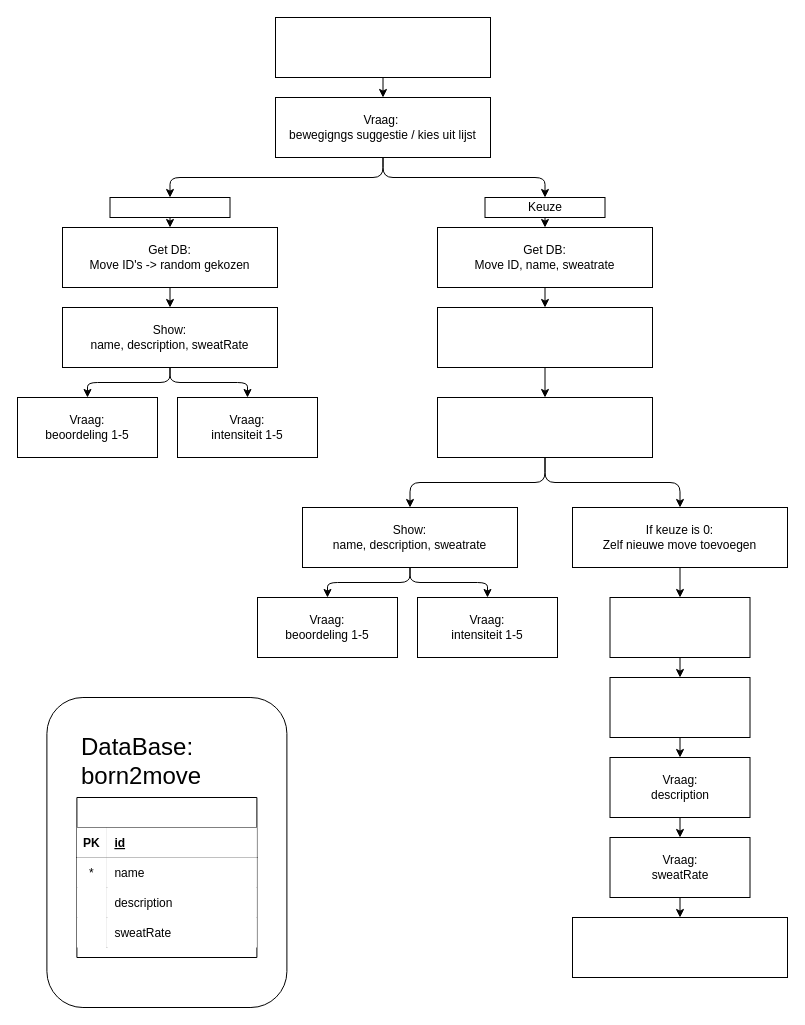
Some shapes in this 805 by 1025 pixel diagram are drawn without their labels. Each missing label, with the centre of its shape:
Controle: name = uniek: the point at 679,707
Melding: gebruiker dient te bewegen: the point at 382,47
Set DB: name, description sweatrate: the point at 680,947
Show: keuze, name, sweatRate: the point at 544,337
Suggestie: the point at 169,207
Vraag: kies beweging uit lijst op basis van id: the point at 544,427
Vraag: name: the point at 679,627
